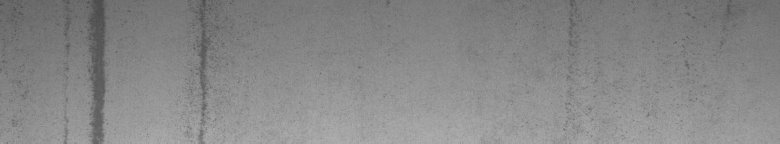hd: (187, 4, 224, 136)
